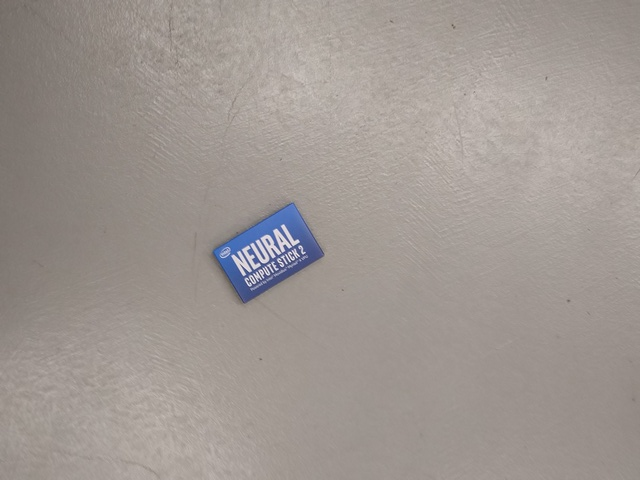box: (209, 201, 328, 305)
